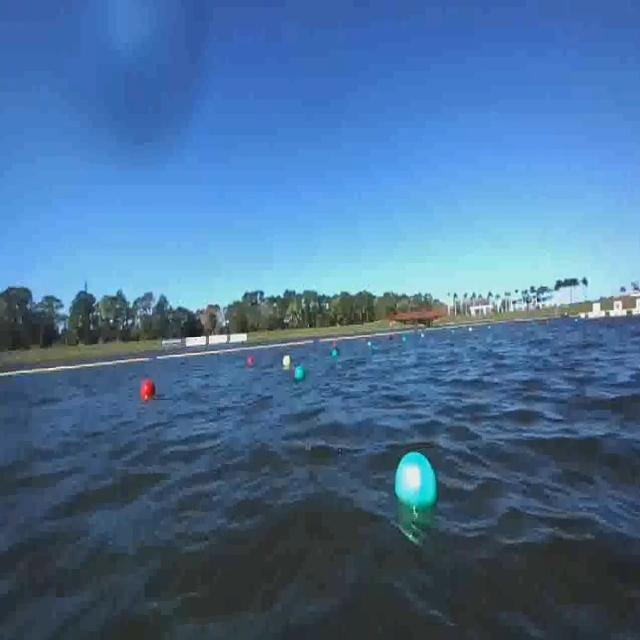green-buoy: (394, 452, 439, 511), (294, 364, 304, 380)
red-buoy: (141, 378, 157, 400)
